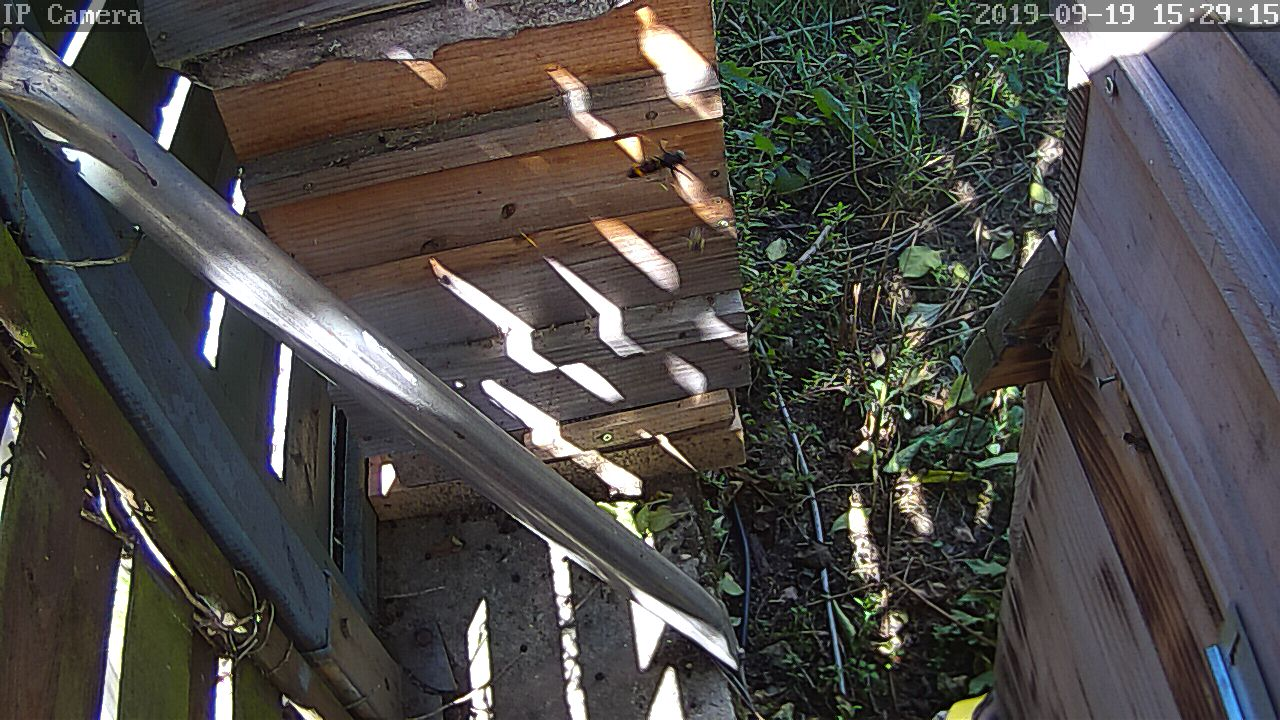hornet: (20, 4, 1256, 720)
